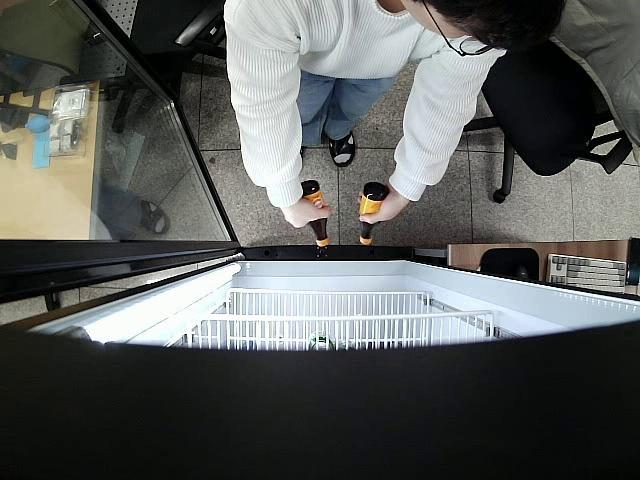17_vita500: (358, 180, 388, 246), (300, 180, 329, 248)
